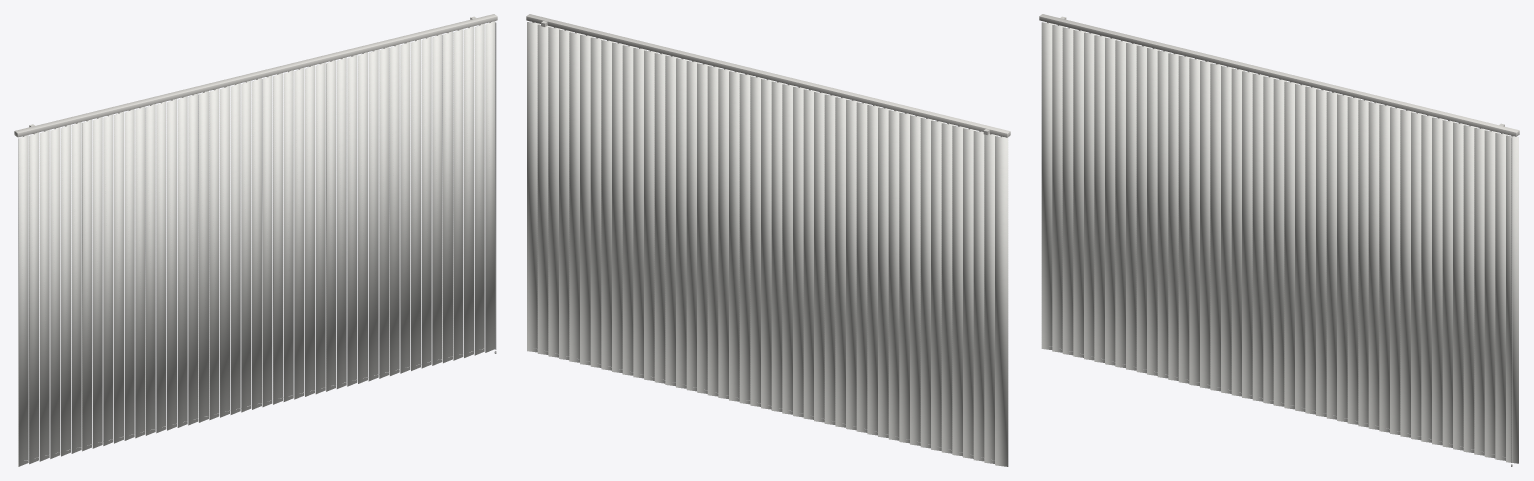
The model's file is cortina_vertical_360_c100.glb.
3 views of the same model, side by side, from view 1: azimuth 30°, elevation 25°; view 2: azimuth 150°, elevation 25°; view 3: azimuth 330°, elevation 25° (orthographic).
Visible parts, largest first — view 1: cortina_vertical_360_c100; view 2: cortina_vertical_360_c100; view 3: cortina_vertical_360_c100.
Boxes of the visible parts, <box> form: cortina_vertical_360_c100: <box>14,14,497,466</box>; cortina_vertical_360_c100: <box>526,14,1010,466</box>; cortina_vertical_360_c100: <box>1039,14,1519,466</box>.
Size of the model in its own units: 3.59 by 2.4 by 0.0995.
Materials: 3 (1 with a texture image).
